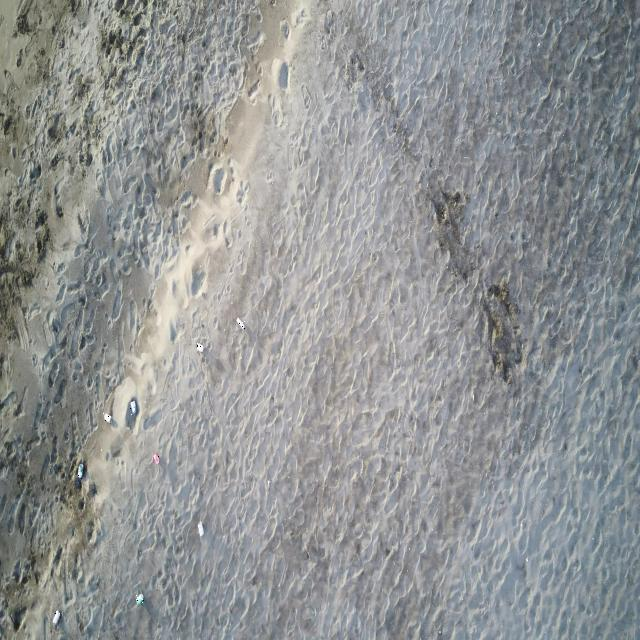tin-and-aluminum-cans: (52, 610, 61, 625), (236, 316, 245, 331), (103, 412, 113, 425), (136, 592, 144, 606), (130, 400, 137, 416), (198, 520, 204, 538), (154, 453, 162, 466), (78, 463, 84, 480), (198, 343, 205, 353)
